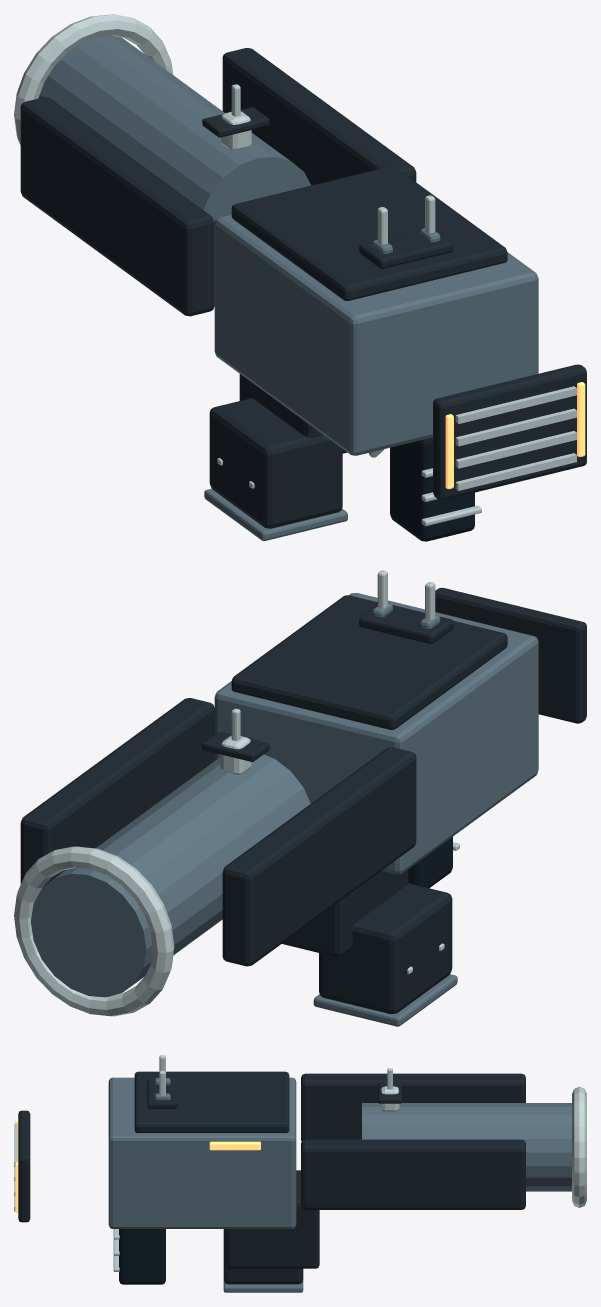
The model's file is weapon-7.glb.
3 views of the same model, one above another, from view 1: azimuth 30°, elevation 25°; view 2: azimuth 150°, elevation 25°; view 3: azimuth 270°, elevation 25° (orthographic). The views are drawn at different scales.
Visible parts, largest first — view 1: body-dark, body-light, flak-barrel-light, feed-dark, body-trim, body-rubber, feed-light, body-glow; view 2: body-dark, body-light, flak-barrel-light, feed-dark, body-trim, feed-light, body-rubber; view 3: body-dark, body-light, flak-barrel-light, body-trim, body-rubber, feed-dark, body-glow, feed-light.
Part boxes in pixels (x1,y1,x2,y2): body-dark: (20, 48, 586, 500); body-light: (214, 214, 538, 455); flak-barrel-light: (38, 35, 311, 221); feed-dark: (209, 398, 342, 528); body-trim: (14, 14, 576, 526); body-rubber: (390, 437, 474, 541); feed-light: (204, 488, 347, 540); body-glow: (445, 382, 585, 489); body-dark: (20, 587, 586, 966); body-light: (214, 593, 538, 874); flak-barrel-light: (31, 754, 310, 997); feed-dark: (319, 883, 452, 1013); body-trim: (14, 570, 459, 1016); feed-light: (313, 974, 457, 1026); body-rubber: (408, 837, 452, 888); body-dark: (18, 1071, 525, 1268); body-light: (108, 1077, 296, 1228); flak-barrel-light: (362, 1103, 571, 1191); body-trim: (14, 1055, 586, 1271); body-rubber: (119, 1229, 165, 1284); feed-dark: (223, 1229, 303, 1284); body-glow: (15, 1119, 260, 1212); feed-light: (223, 1280, 303, 1292).
Bounding box in the file's own units: 0.382 × 0.5495 × 1.22.
